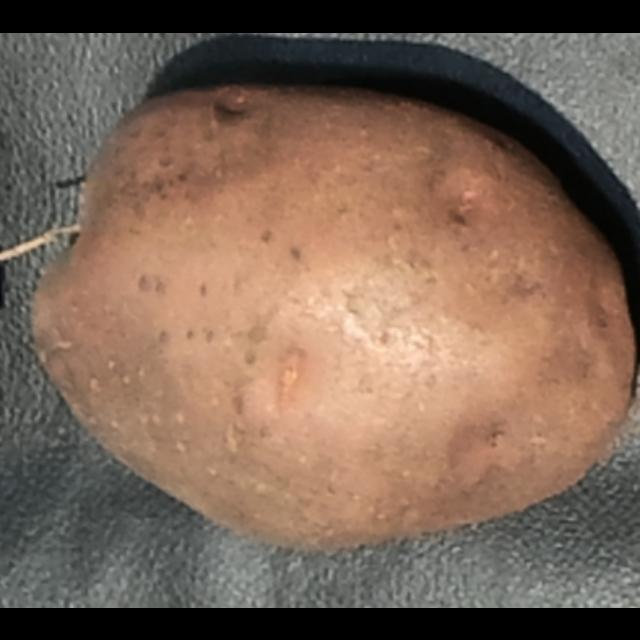Defected potato: (25, 62, 640, 560)
